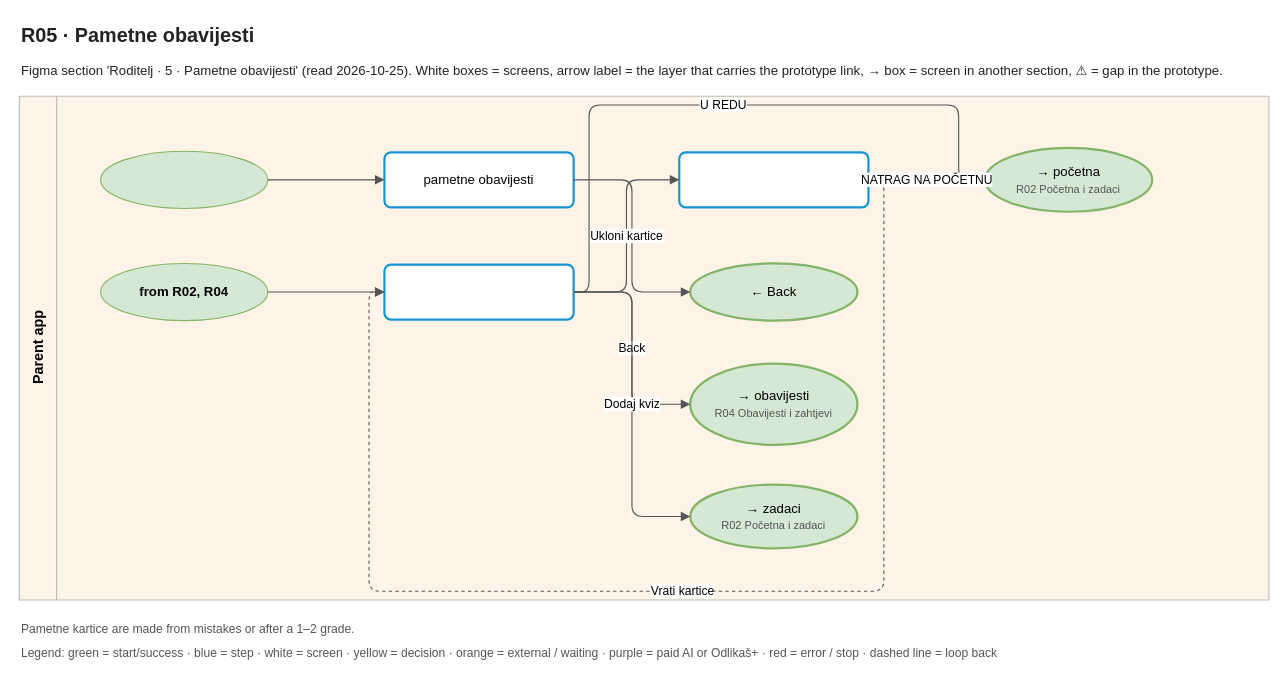
Some shapes in this 1288 by 682 pixel diagram are drawn without their labels. Each missing label, with the box of its shape:
from R02, R03, R07, R10: (100, 150, 268, 208)
kartice uklonjene: (678, 151, 869, 208)
pametna obavijest: (383, 263, 574, 320)
